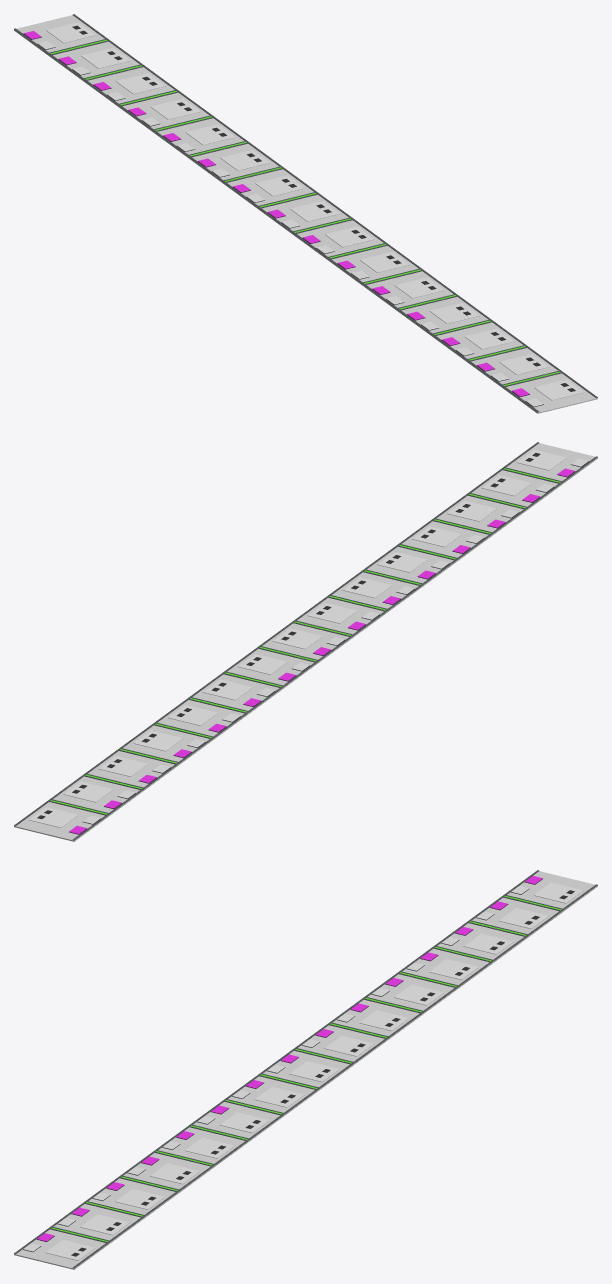
The model's file is Lane.fbx.
3 views of the same model, one above another, from view 1: azimuth 30°, elevation 25°; view 2: azimuth 150°, elevation 25°; view 3: azimuth 330°, elevation 25° (orthographic).
Parts seen in each view (by area): view 1: LaneFloor, EdgeL, EdgeR, Bay10_RedMat, Bay09_RedMat, Bay06_RedMat, Bay08_RedMat, Bay11_RedMat, Bay12_RedMat, Bay04_RedMat, Bay15_RedMat, Bay05_RedMat (+6 smaller); view 2: LaneFloor, EdgeL, EdgeR, Bay02_RedMat, Bay06_RedMat, Bay08_RedMat, Bay01_RedMat, Bay04_RedMat, Bay14_RedMat, Bay05_RedMat, Bay10_RedMat, Bay11_RedMat (+6 smaller); view 3: LaneFloor, EdgeR, EdgeL, Bay03_RedMat, Bay02_RedMat, Bay07_RedMat, Bay01_RedMat, Bay06_RedMat, Bay08_RedMat, Bay09_RedMat, Bay15_RedMat, Bay04_RedMat (+6 smaller).
Boxes of the visible parts, box(x1,y1,x2,y2) form: LaneFloor: box(14, 15, 597, 413); EdgeL: box(14, 28, 539, 412); EdgeR: box(72, 14, 597, 398); Bay10_RedMat: box(220, 150, 270, 170); Bay09_RedMat: box(255, 175, 305, 196); Bay06_RedMat: box(360, 252, 409, 272); Bay08_RedMat: box(290, 201, 339, 221); Bay11_RedMat: box(185, 124, 235, 145); Bay12_RedMat: box(151, 98, 200, 119); Bay04_RedMat: box(429, 303, 479, 323); Bay15_RedMat: box(46, 22, 95, 43); Bay05_RedMat: box(394, 277, 444, 298); LaneFloor: box(14, 443, 597, 841); EdgeL: box(72, 456, 597, 840); EdgeR: box(14, 442, 539, 826); Bay02_RedMat: box(482, 475, 531, 496); Bay06_RedMat: box(342, 577, 392, 598); Bay08_RedMat: box(272, 628, 322, 649); Bay01_RedMat: box(516, 449, 566, 470); Bay04_RedMat: box(412, 526, 461, 547); Bay14_RedMat: box(63, 781, 113, 802); Bay05_RedMat: box(377, 551, 426, 572); Bay10_RedMat: box(202, 679, 252, 700); Bay11_RedMat: box(168, 705, 217, 725); LaneFloor: box(14, 871, 597, 1269); EdgeR: box(72, 884, 597, 1268); EdgeL: box(14, 870, 539, 1254); Bay03_RedMat: box(115, 1188, 164, 1209); Bay02_RedMat: box(80, 1214, 130, 1235); Bay07_RedMat: box(254, 1086, 304, 1107); Bay01_RedMat: box(45, 1240, 94, 1260); Bay06_RedMat: box(220, 1112, 269, 1133); Bay08_RedMat: box(289, 1061, 339, 1082); Bay09_RedMat: box(324, 1035, 374, 1056); Bay15_RedMat: box(533, 882, 583, 903); Bay04_RedMat: box(150, 1163, 199, 1184).
Bounding box in the file's own units: 48 × 1.8 × 721.
